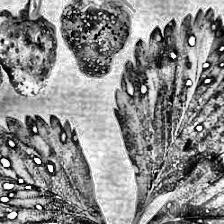Anthracnose Fruit Rot: (60, 15, 129, 69), (16, 31, 52, 59)
Leaf Spot: (112, 6, 224, 220), (0, 114, 110, 224), (139, 149, 223, 224)
